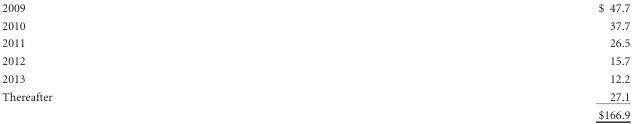table: (1, 0, 629, 121)
table column: (1, 0, 324, 121), (324, 0, 629, 121)
table row: (1, 16, 629, 34), (1, 34, 629, 52), (1, 69, 629, 87), (1, 87, 629, 105), (1, 52, 629, 69), (1, 0, 629, 16), (1, 105, 629, 121)
